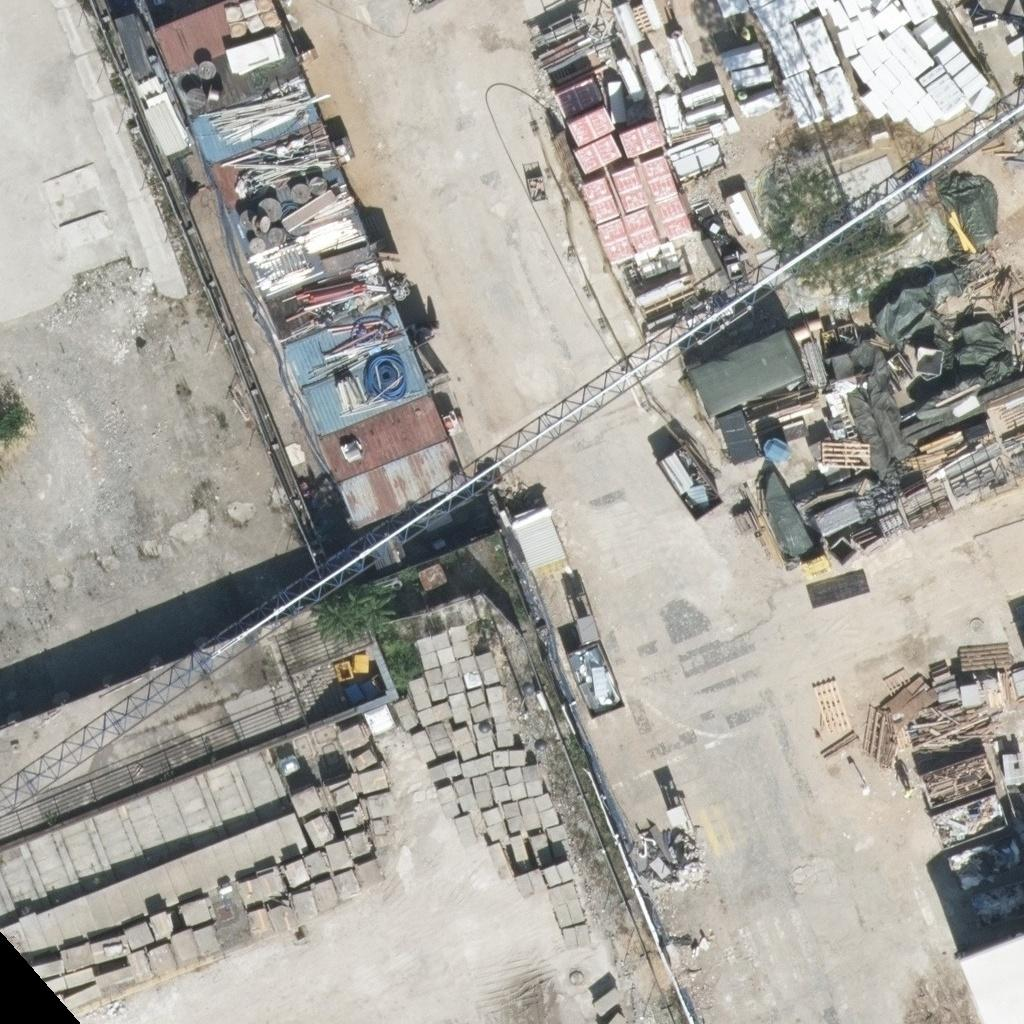zuraw_wiezowy: (0, 59, 1024, 828)
